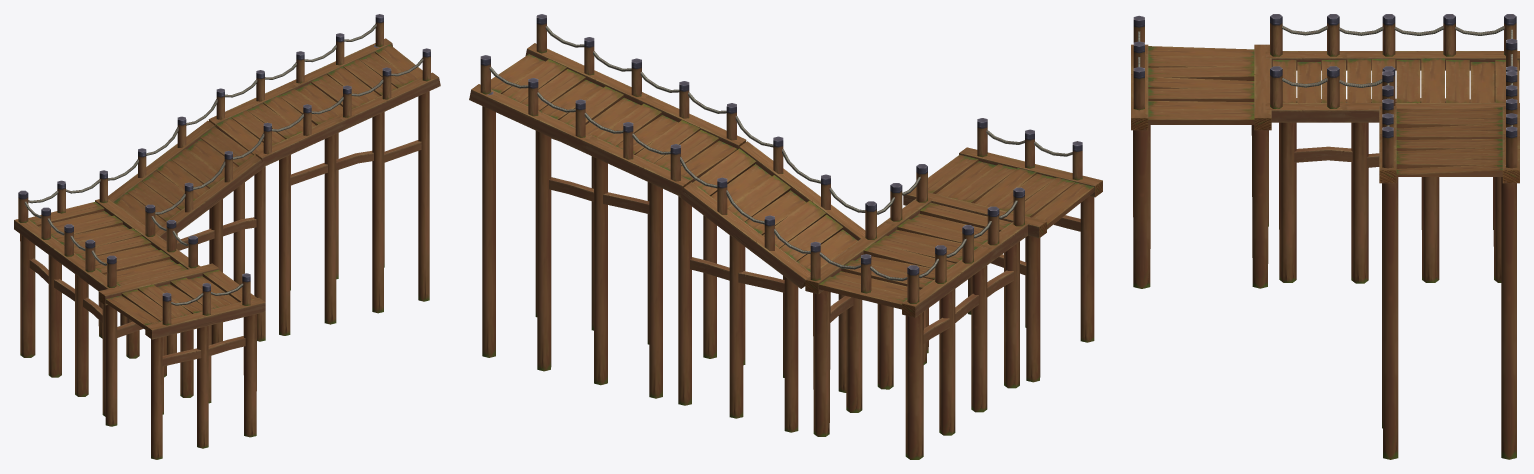
File: scene_lawennushandao_bridge03.FBX
3 renders of one model, left to right at view 1: azimuth 30°, elevation 25°; view 2: azimuth 150°, elevation 25°; view 3: azimuth 270°, elevation 25°, orthographic. The views are drawn at different scales.
Visible parts, largest first — view 1: scene_lawennushandao_bridge03; view 2: scene_lawennushandao_bridge03; view 3: scene_lawennushandao_bridge03.
Part boxes in pixels (x1,y1,x2,y2): scene_lawennushandao_bridge03: (14, 14, 440, 459); scene_lawennushandao_bridge03: (469, 14, 1102, 459); scene_lawennushandao_bridge03: (1131, 14, 1519, 459).
Bounding box in the file's own units: 1109 × 691 × 739.
